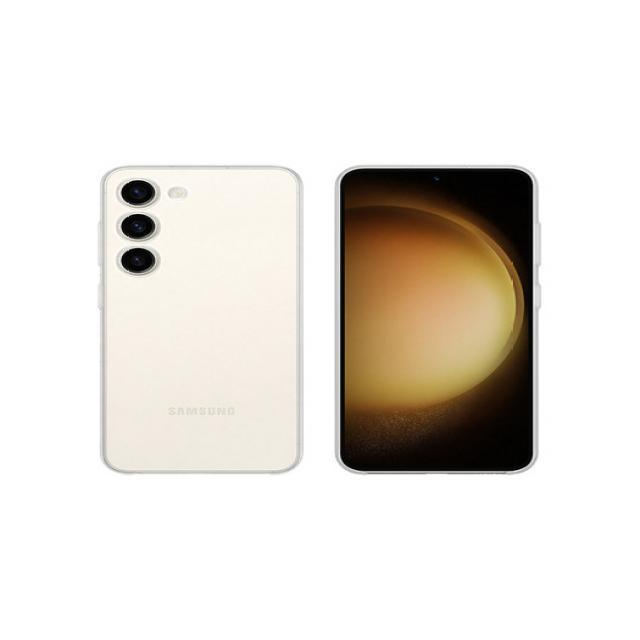phone: (97, 165, 302, 475)
